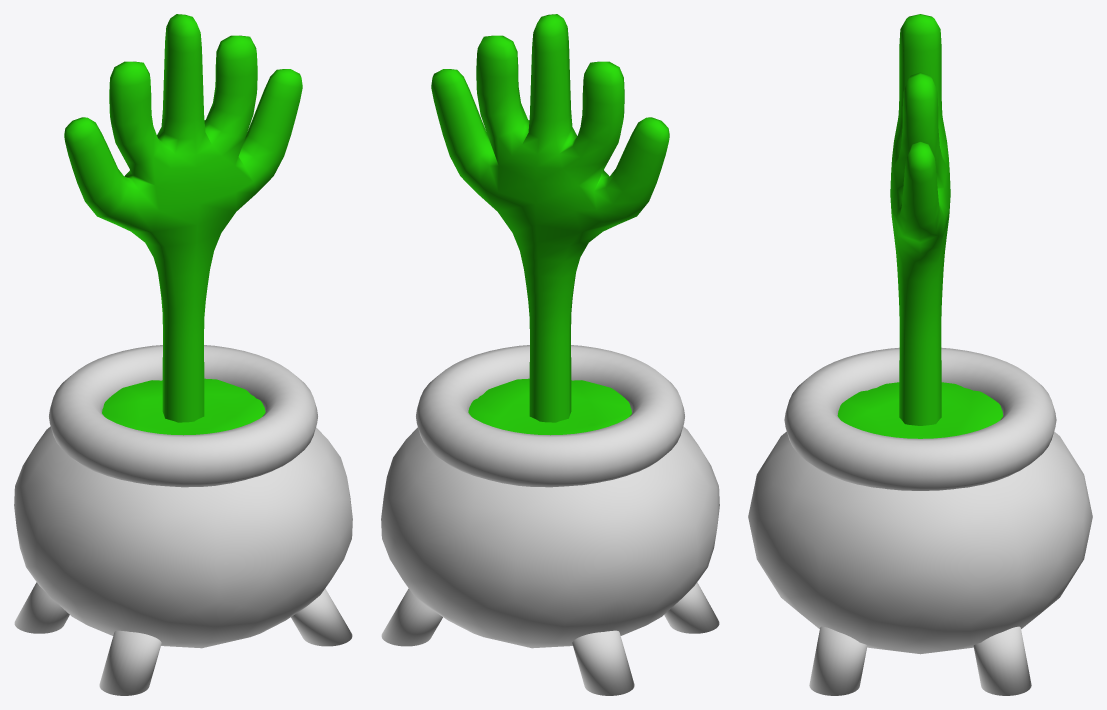
Rendered from SoulStew.fbx.
3 renders of one model, left to right at view 1: azimuth 30°, elevation 25°; view 2: azimuth 150°, elevation 25°; view 3: azimuth 270°, elevation 25°, orthographic.
Visible parts, largest first — view 1: Cylinder; view 2: Cylinder; view 3: Cylinder.
Part boxes in pixels (x1,y1,x2,y2): Cylinder: (14, 14, 352, 695); Cylinder: (381, 14, 719, 695); Cylinder: (748, 14, 1092, 695).
Size of the model in its own units: 0.8309 by 0.8324 by 1.65.
